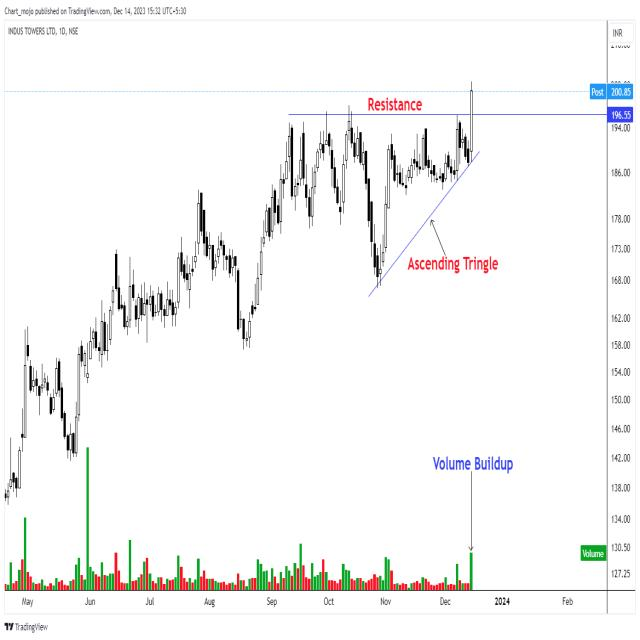Ascending-Triangle: (255, 116, 500, 441)
Triangle: (5, 155, 197, 539)
